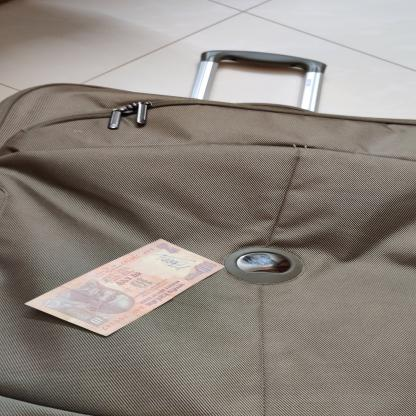Old10Front: (21, 237, 228, 337)
